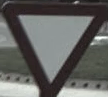Give way: (1, 1, 101, 91)
